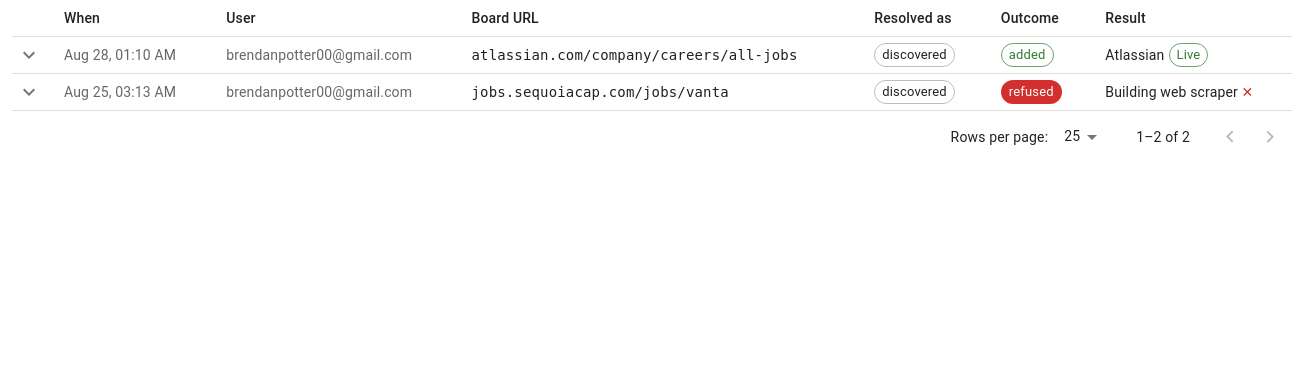
Test: AddAttemptsTable › expands and collapses a row, and the expansion is hidden until asked for
This screenshot has width=1304, height=387.
Expected: the text "Attempt record" is not shown
Click the button named "Expand attempt" next to "Aug 28, 01:10 AM" at (29,55), box [12,38,46,72]
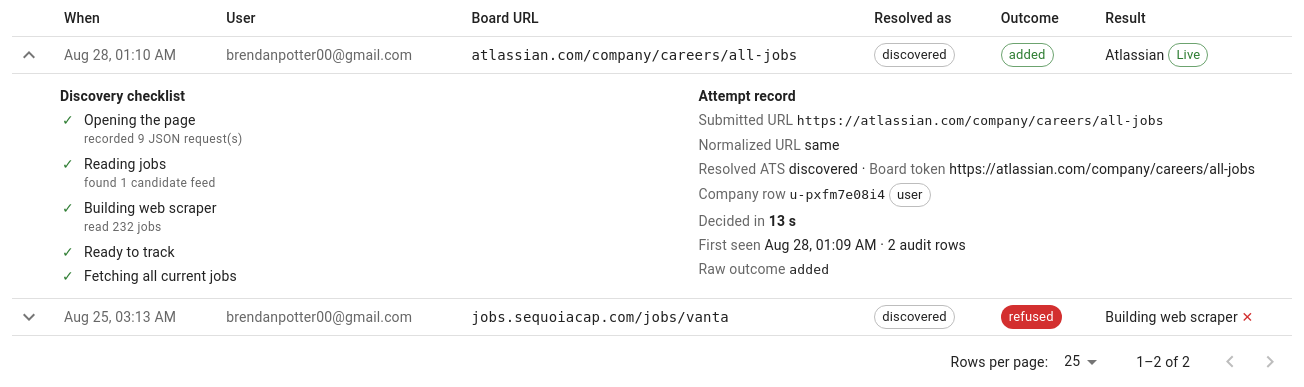
Expected: the text "Attempt record" is shown, [698,88,796,104]
Click the button named "Collapse attempt" at (29,55), box [12,38,46,72]
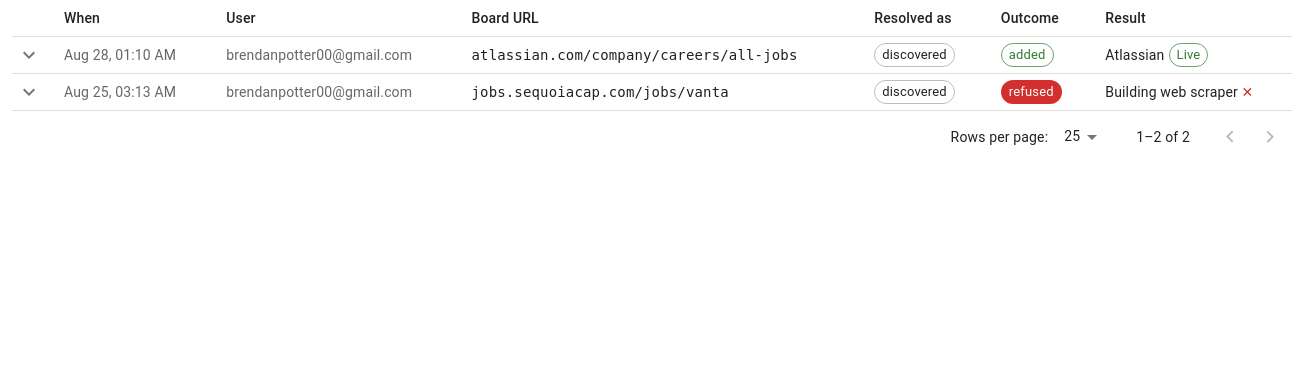
Expected: the text "Attempt record" is gone
